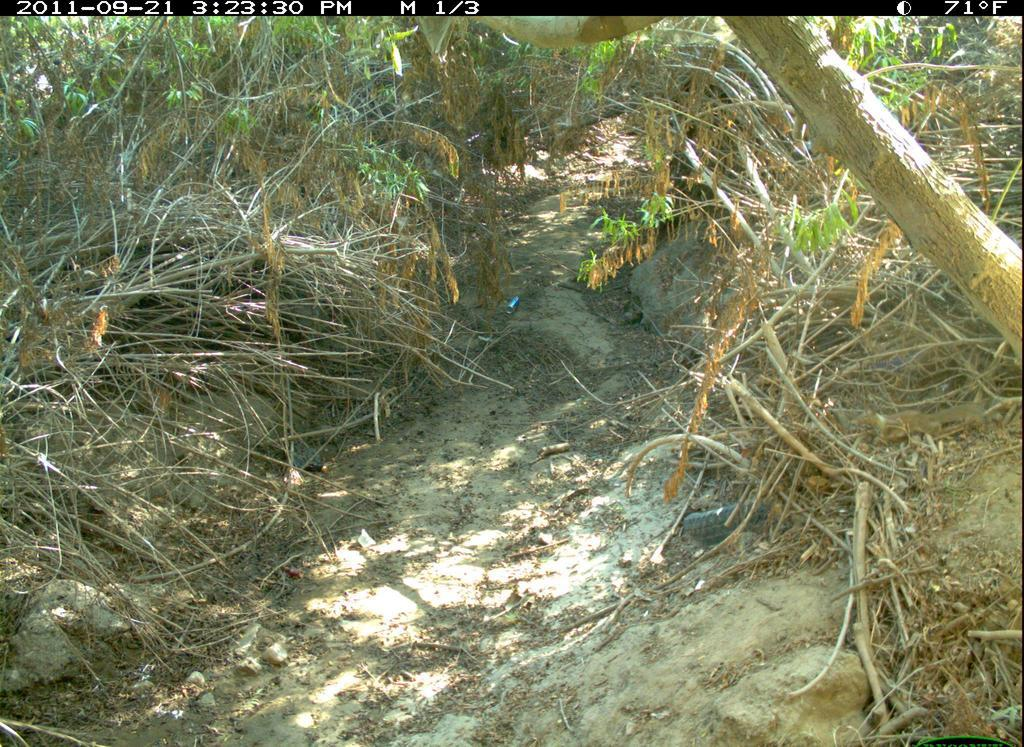squirrel: (853, 399, 995, 441)
